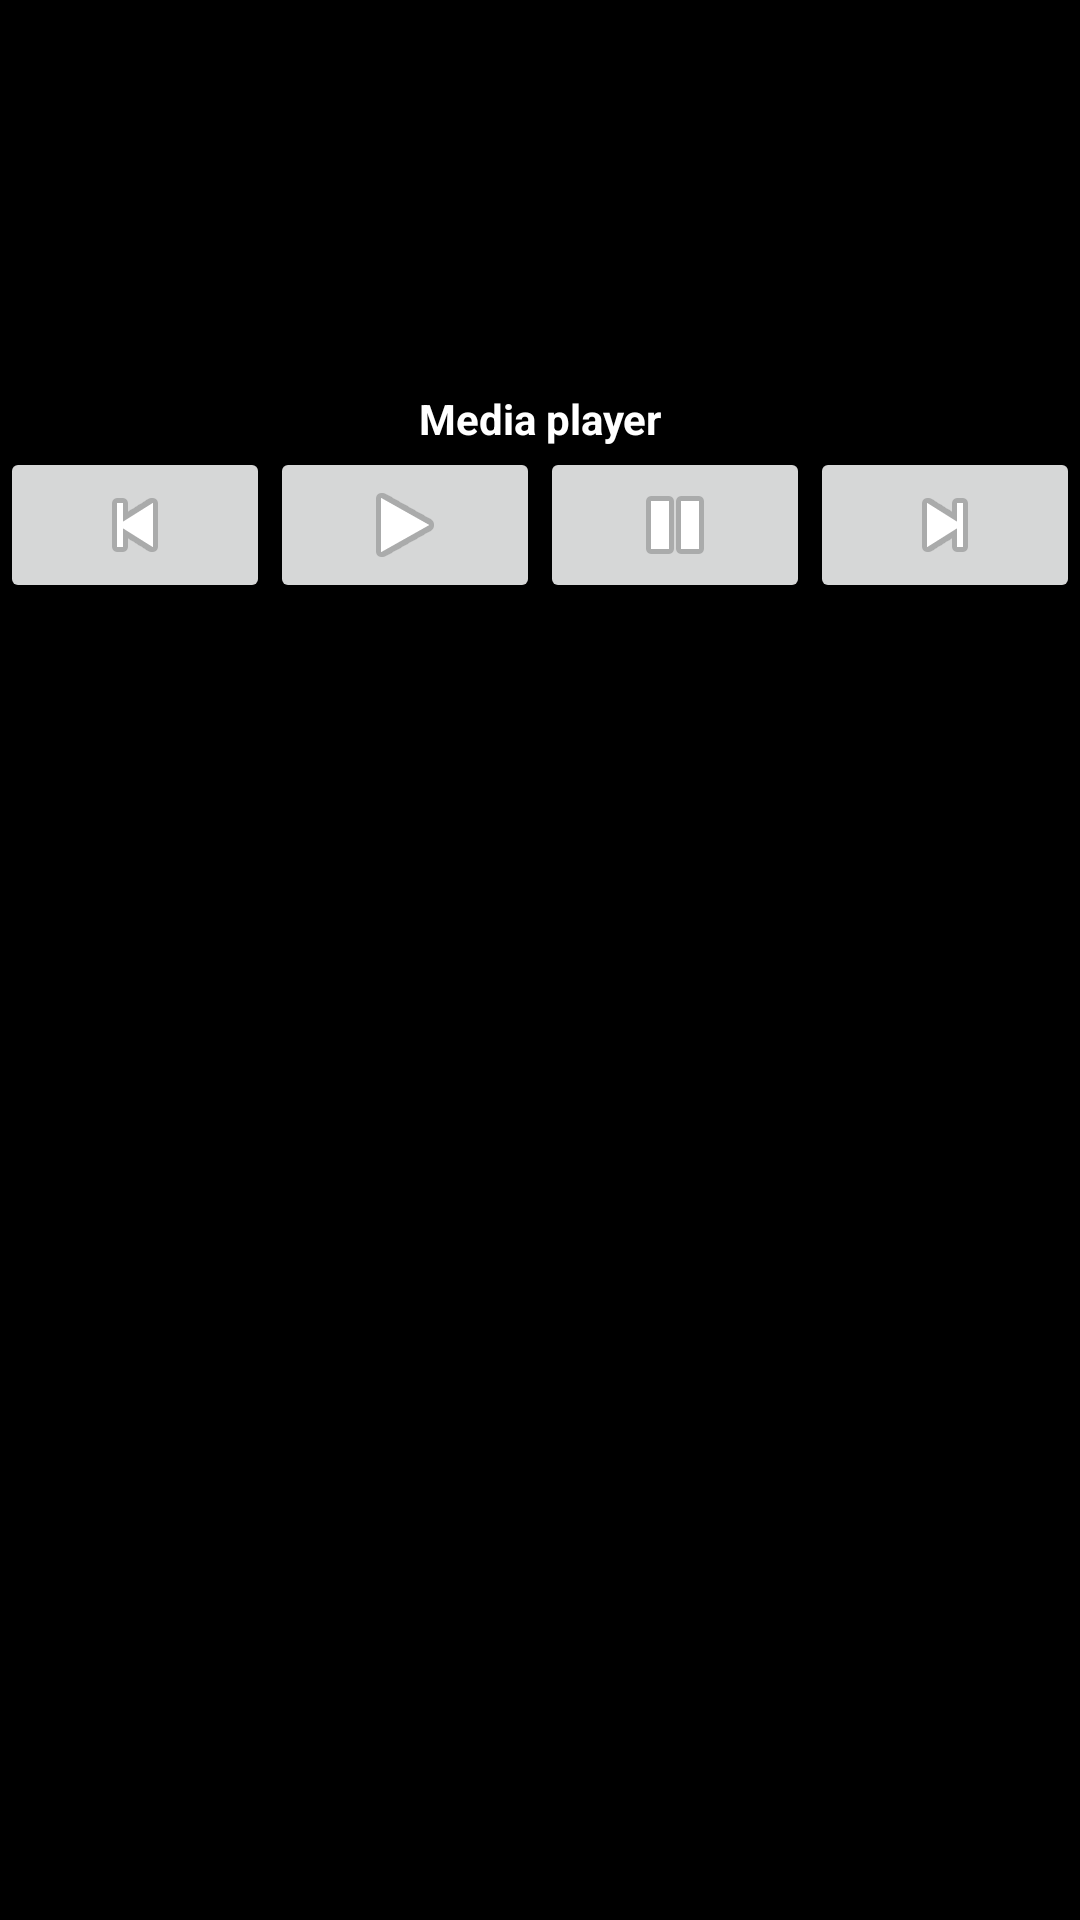

Named icons in this screenshot (1080px x 1920px) and their bounding boxes, (x1, y1, x2, y2):
next: (822, 465, 1068, 585)
pause: (552, 465, 798, 585)
previous: (12, 465, 258, 585)
